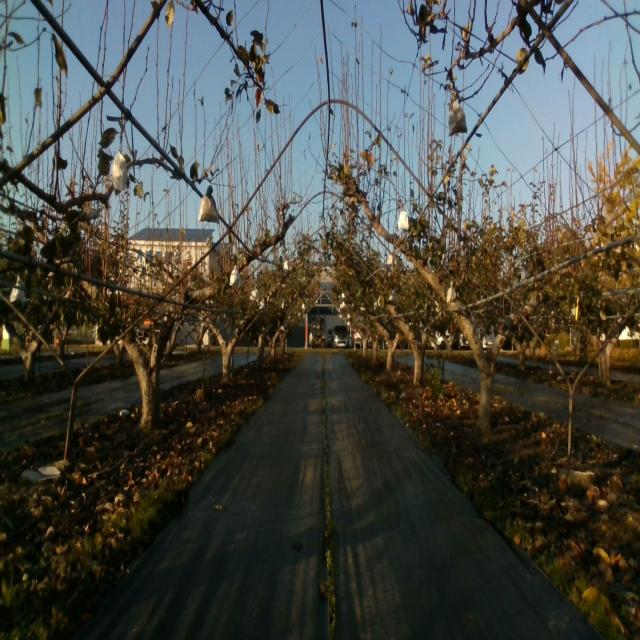pearbags: (198, 185, 220, 225), (447, 100, 469, 137), (112, 151, 128, 191), (397, 207, 409, 230), (230, 266, 242, 286)
